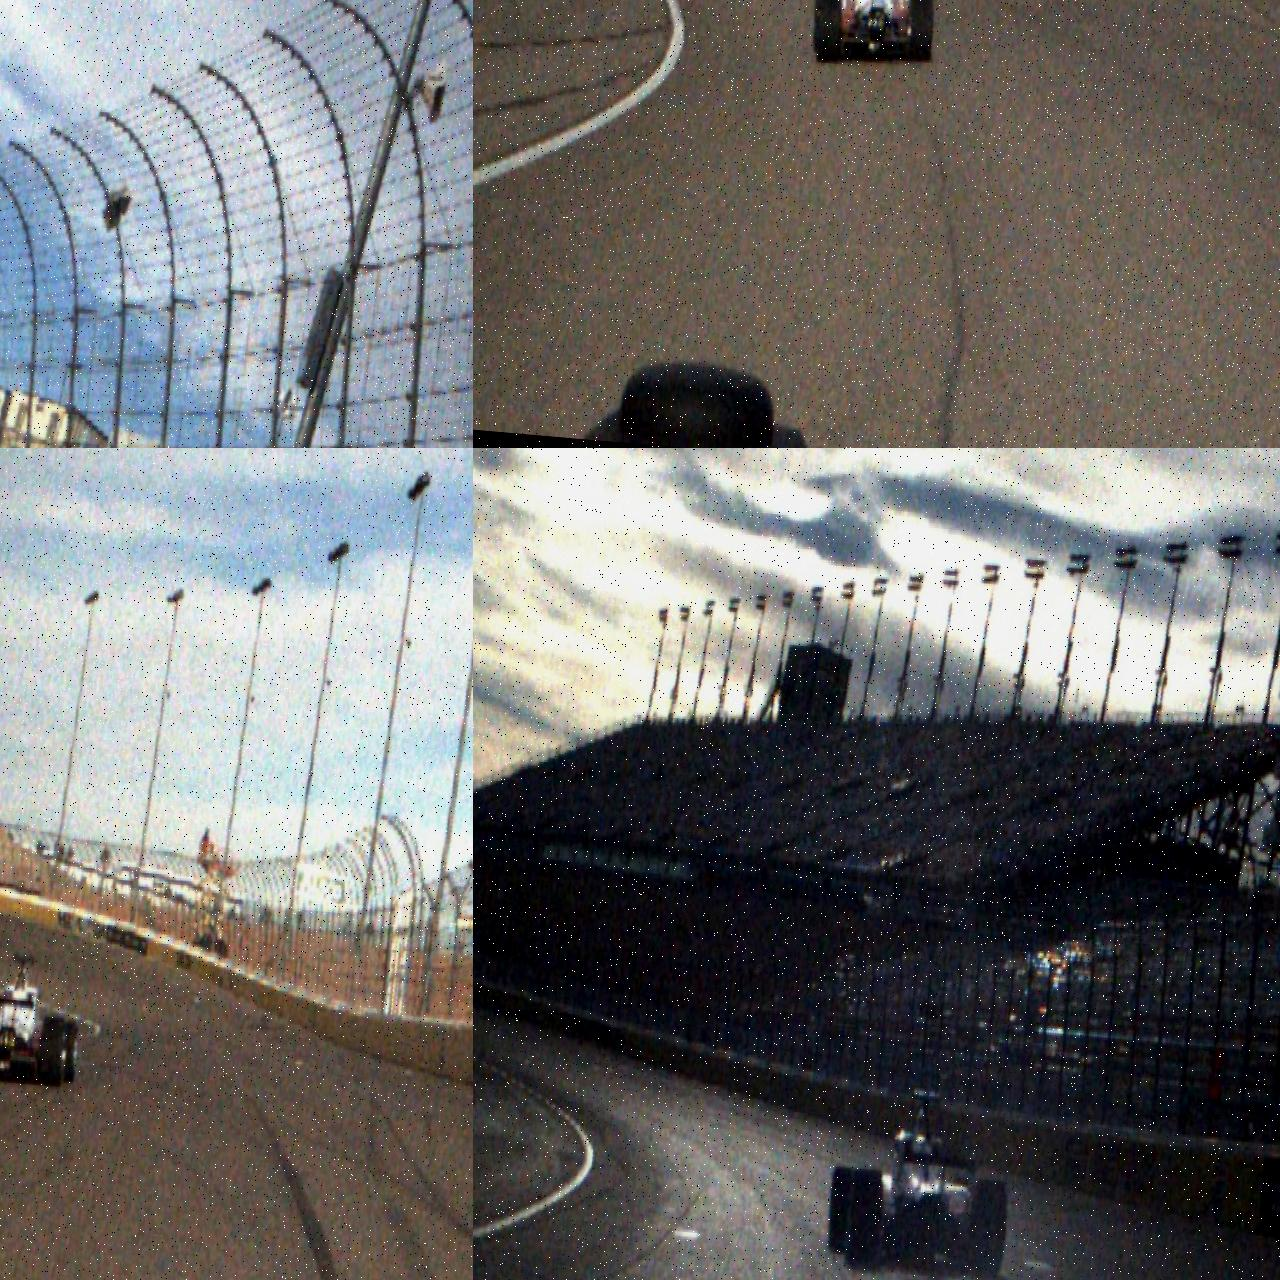AV: (824, 1081, 1018, 1280), (0, 949, 85, 1087), (811, 0, 941, 73)
Wheel: (966, 1178, 1010, 1280), (844, 1168, 884, 1272), (826, 1166, 857, 1254), (36, 1016, 68, 1086), (907, 0, 935, 62), (815, 0, 842, 62), (58, 1019, 79, 1082)
